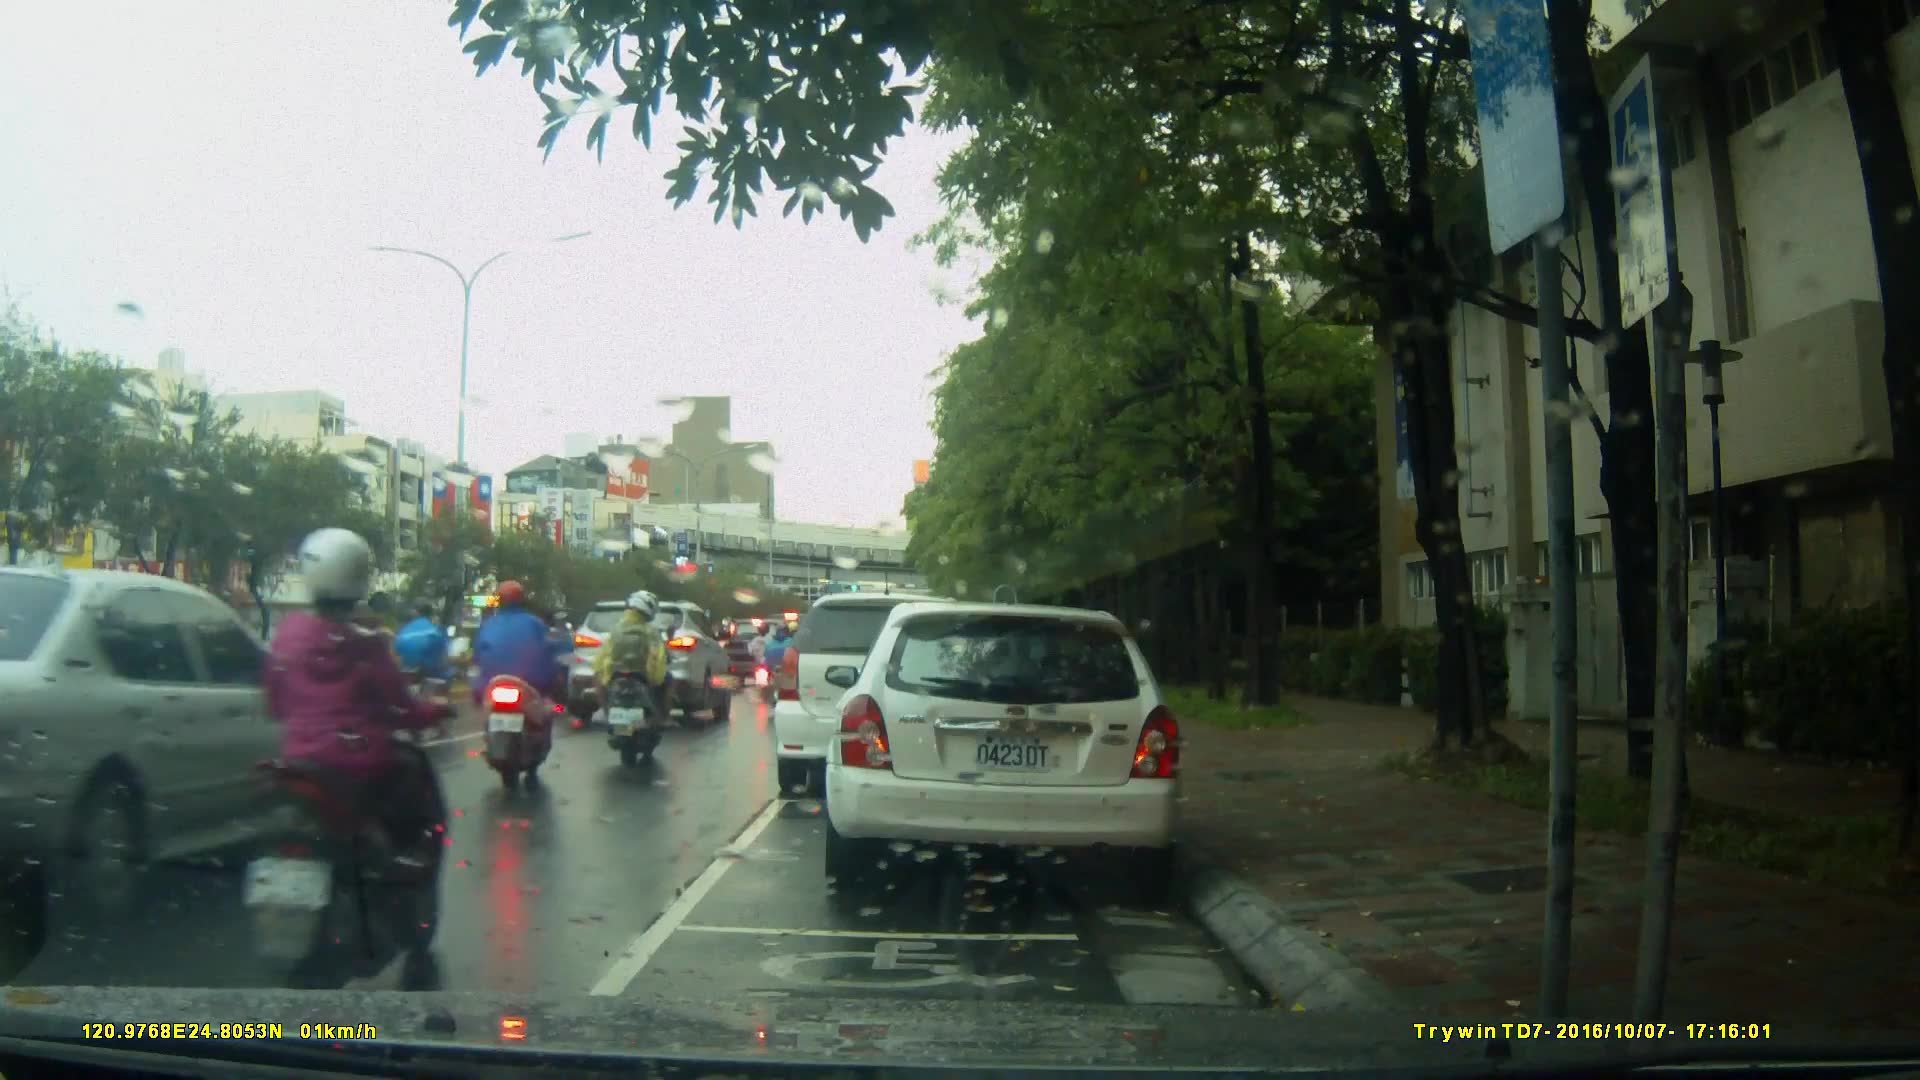rider: (232, 524, 459, 986), (482, 576, 566, 786), (593, 591, 676, 773), (393, 598, 465, 737), (532, 607, 589, 701), (756, 617, 810, 705), (752, 621, 786, 703)
vehicle: (1, 566, 392, 938), (822, 604, 1188, 883), (774, 595, 995, 802), (565, 600, 733, 727)
